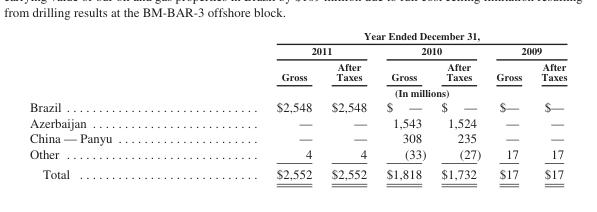table: (28, 29, 566, 181)
table column: (28, 29, 193, 181), (193, 29, 321, 181), (375, 29, 432, 181), (432, 29, 487, 181), (321, 29, 375, 181), (487, 29, 530, 181), (530, 29, 566, 181)
table column header: (28, 29, 566, 98)
table row: (28, 58, 566, 84), (28, 145, 566, 163), (28, 163, 566, 181), (28, 42, 566, 58), (28, 98, 566, 114), (28, 114, 566, 130), (28, 130, 566, 145), (28, 84, 566, 98), (28, 29, 566, 42)
table spanning cell: (193, 84, 566, 98), (193, 29, 566, 42), (193, 42, 375, 58), (375, 42, 487, 58), (487, 42, 566, 58)
